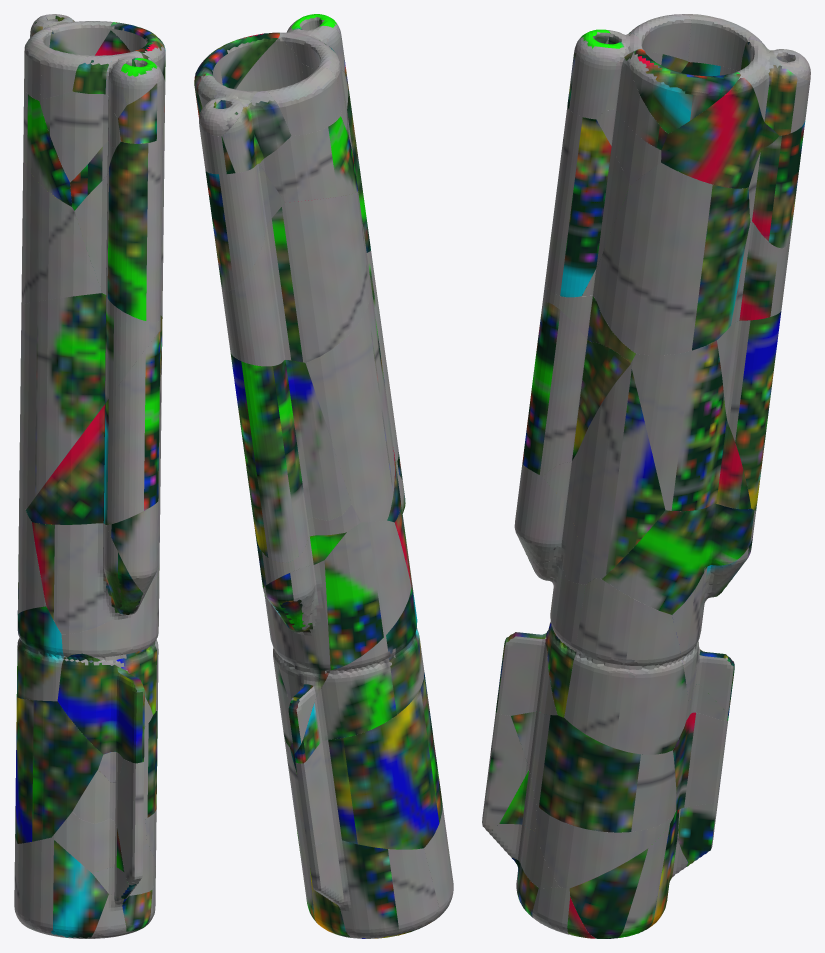
The model's file is rocket_pieces.glb.
3 renders of one model, left to right at view 1: azimuth 30°, elevation 25°; view 2: azimuth 150°, elevation 25°; view 3: azimuth 270°, elevation 25°, orthographic. The views are drawn at different scales.
Parts seen in each view (by area): view 1: hull.002_cell.037, hull.002_cell.016, hull.002_cell.026, hull.002_cell.031, hull.002_cell.028, hull.002_cell.034, hull.002_cell.008, hull.002_cell.011, hull.002_cell.018, hull.002_cell.001, hull.002_cell.021, hull.002_cell.038 (+22 smaller); view 2: hull.002_cell.008, hull.002_cell.031, hull.002_cell.006, hull.002_cell.037, hull.002_cell.017, hull.002_cell.014, hull.002_cell.038, hull.002_cell.003, hull.002_cell.005, hull.002_cell, hull.002_cell.004, hull.002_cell.010 (+18 smaller); view 3: hull.002_cell.013, hull.002_cell.049, hull.002_cell.009, hull.002_cell.035, hull.002_cell.015, hull.002_cell.016, hull.002_cell.026, hull.002_cell.020, hull.002_cell.024, hull.002_cell.006, hull.002_cell.019, hull.002_cell.042 (+25 smaller).
Part boxes in pixels (x1,y1,x2,y2): hull.002_cell.037: [19, 293, 162, 509]; hull.002_cell.016: [26, 330, 162, 524]; hull.002_cell.026: [74, 134, 162, 321]; hull.002_cell.031: [15, 697, 103, 843]; hull.002_cell.028: [32, 522, 145, 633]; hull.002_cell.034: [57, 653, 152, 763]; hull.002_cell.008: [21, 157, 101, 304]; hull.002_cell.011: [17, 837, 108, 938]; hull.002_cell.018: [61, 571, 158, 714]; hull.002_cell.001: [39, 91, 120, 181]; hull.002_cell.021: [72, 759, 143, 885]; hull.002_cell.038: [16, 606, 63, 701]; hull.002_cell.008: [221, 191, 370, 366]; hull.002_cell.031: [290, 672, 442, 849]; hull.002_cell.006: [230, 353, 351, 562]; hull.002_cell.037: [305, 251, 394, 522]; hull.002_cell.017: [306, 839, 439, 938]; hull.002_cell.014: [324, 520, 411, 670]; hull.002_cell.038: [294, 587, 424, 763]; hull.002_cell.003: [263, 560, 330, 753]; hull.002_cell.005: [205, 163, 284, 291]; hull.002_cell: [260, 116, 357, 202]; hull.002_cell.004: [266, 67, 340, 135]; hull.002_cell.010: [222, 91, 291, 172]; hull.002_cell.013: [582, 162, 750, 355]; hull.002_cell.049: [564, 578, 688, 754]; hull.002_cell.009: [630, 340, 751, 511]; hull.002_cell.035: [511, 711, 676, 832]; hull.002_cell.015: [543, 365, 665, 578]; hull.002_cell.016: [522, 302, 630, 476]; hull.002_cell.026: [545, 105, 630, 297]; hull.002_cell.020: [602, 504, 755, 614]; hull.002_cell.024: [661, 75, 778, 188]; hull.002_cell.006: [717, 311, 781, 510]; hull.002_cell.019: [535, 805, 674, 888]; hull.002_cell.042: [514, 464, 594, 584].
Bounding box in the file's own units: 11.81 × 52.78 × 17.29.
Materials: 1 (1 with a texture image).
